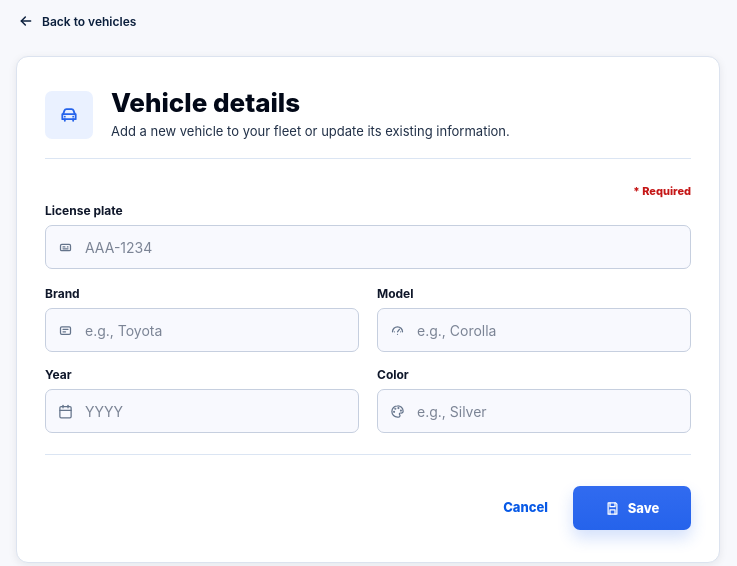
Test: VehicleCreatePage › shows field errors returned by the API
Type "ABC1234" into the field labelled "License plate" at (380, 247), box [83, 226, 678, 268]
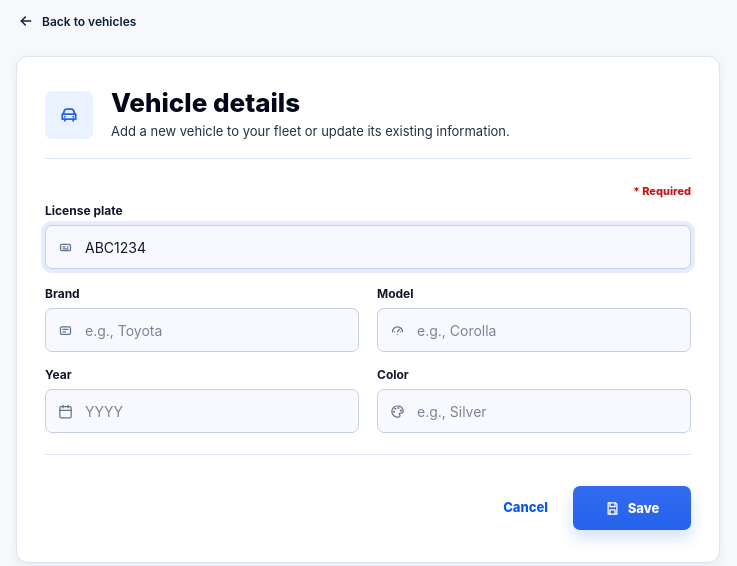
Type "Honda" into the field labelled "Brand" at (214, 330), box [83, 309, 346, 351]
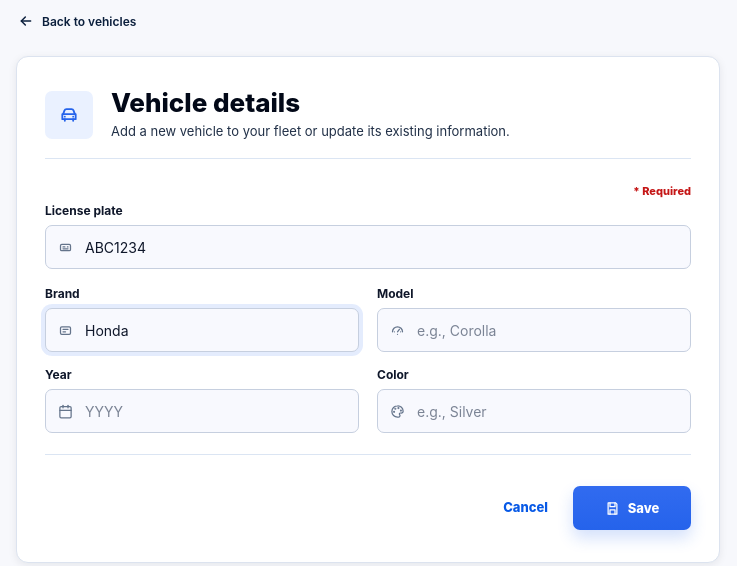
Type "Civic" into the field labelled "Model" at (546, 330), box [415, 309, 678, 351]
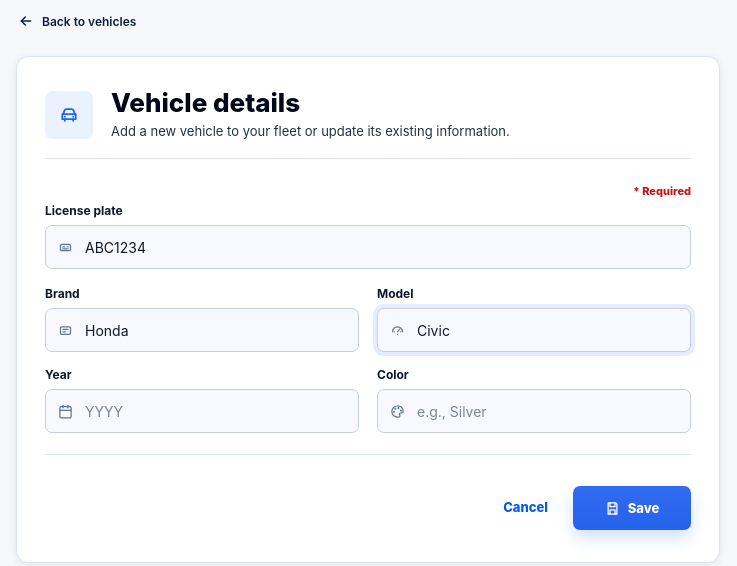
Type "2020" into the number field labelled "Year" at (214, 411), box [83, 390, 346, 432]
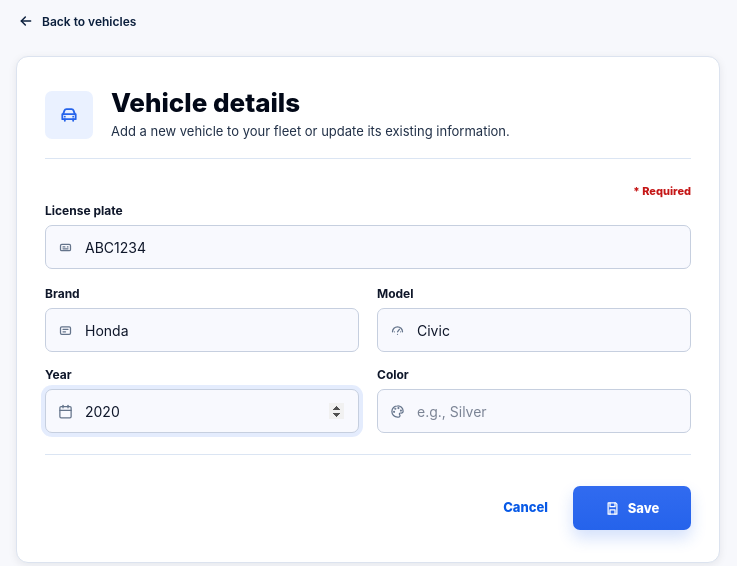
Click the button "Save" at (632, 508), box [573, 486, 691, 530]
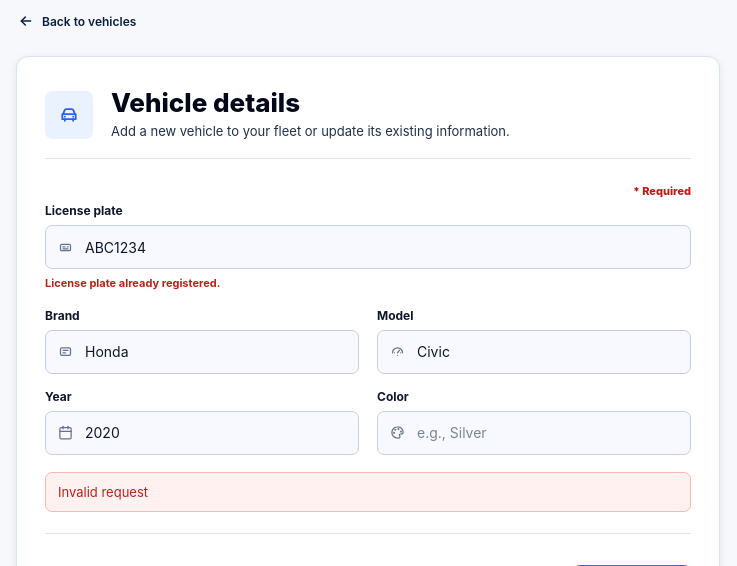
Now the text "License plate already registered." is shown, box [45, 276, 220, 290]
